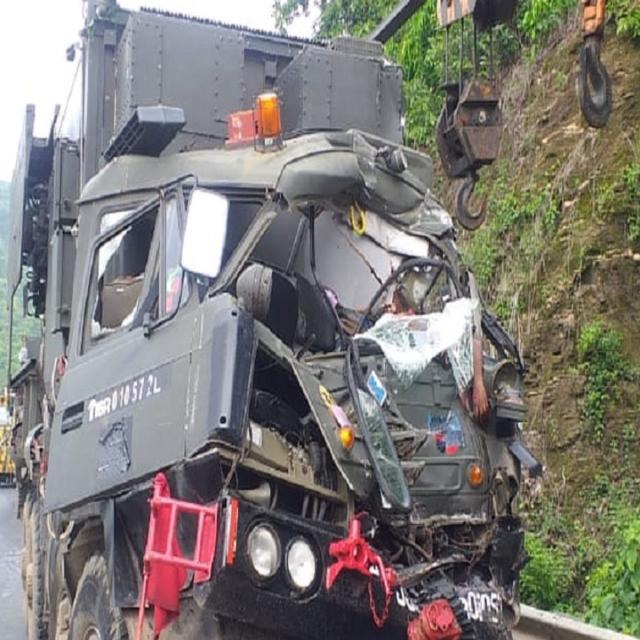accident: (9, 2, 540, 638)
